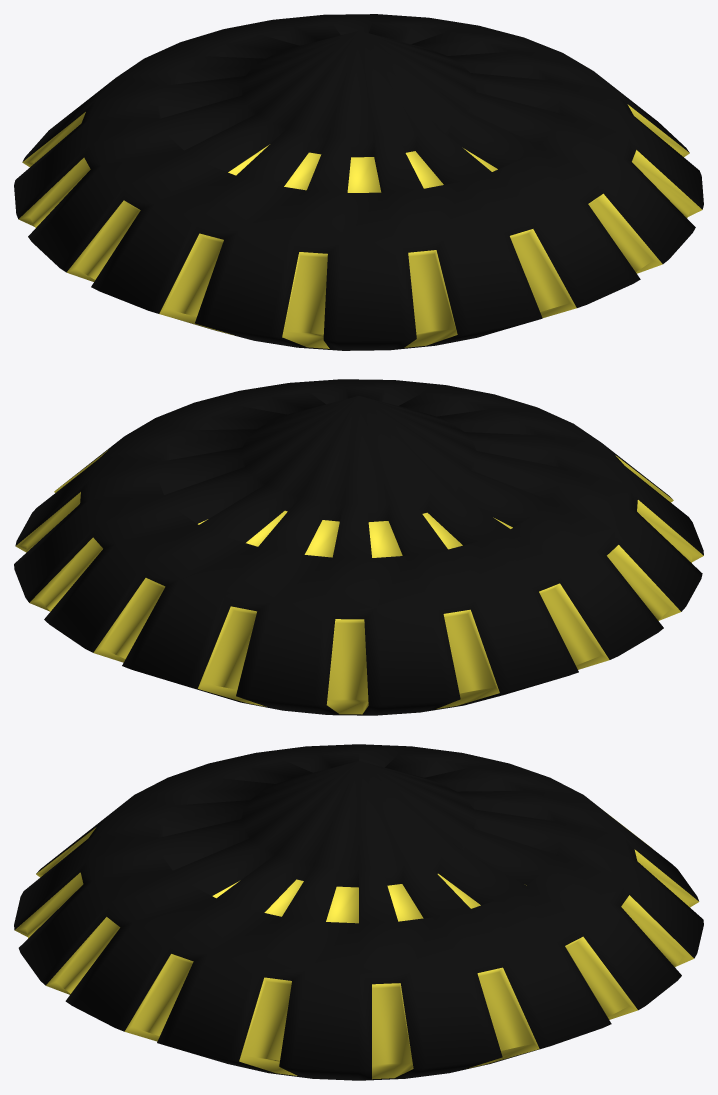
Rendered from FlyingSaucer.fbx.
The picture shows the model from 3 angles, top to bottom: view 1: azimuth 30°, elevation 25°; view 2: azimuth 150°, elevation 25°; view 3: azimuth 270°, elevation 25°; orthographic projection.
Visible parts, largest first — view 1: FlyingSaucer; view 2: FlyingSaucer; view 3: FlyingSaucer.
Boxes of the visible parts, x1=… form: FlyingSaucer: x1=14, y1=14, x2=703, y2=350; FlyingSaucer: x1=14, y1=379, x2=703, y2=715; FlyingSaucer: x1=14, y1=744, x2=703, y2=1080.
Size of the model in its own units: 2.55 by 0.921 by 2.55.
